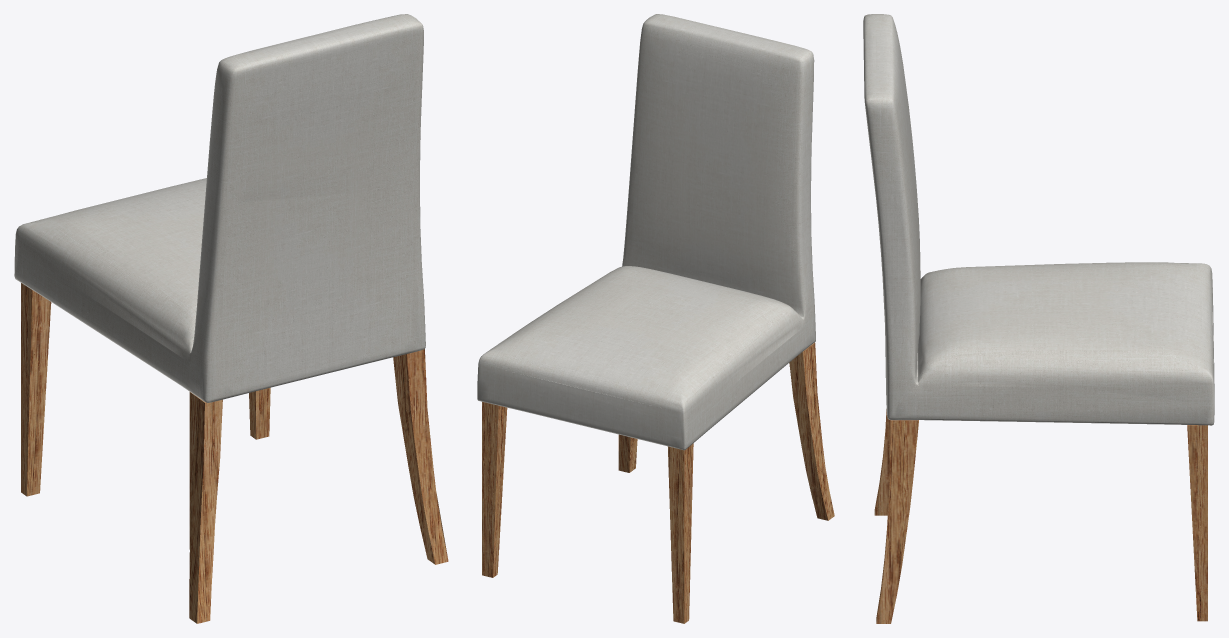
Rendered from Chair.FBX.
3 renders of one model, left to right at view 1: azimuth 30°, elevation 25°; view 2: azimuth 150°, elevation 25°; view 3: azimuth 270°, elevation 25°, orthographic. The views are drawn at different scales.
Visible parts, largest first — view 1: chair; view 2: chair; view 3: chair.
Part boxes in pixels (bbox=[...]): chair: bbox=[14, 14, 448, 623]; chair: bbox=[477, 14, 834, 623]; chair: bbox=[863, 14, 1214, 623].
Size of the model in its own units: 29.29 by 37.91 by 61.
Materials: 2 (2 with a texture image).
